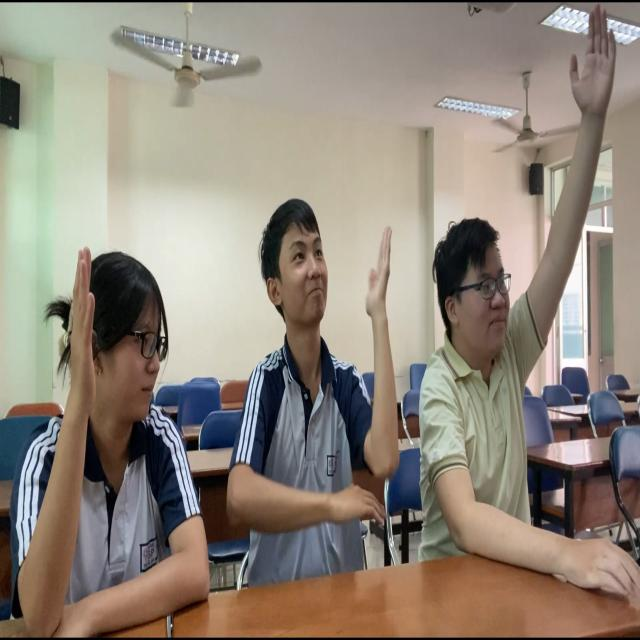raise_hand: (412, 7, 640, 640), (1, 189, 222, 624)
